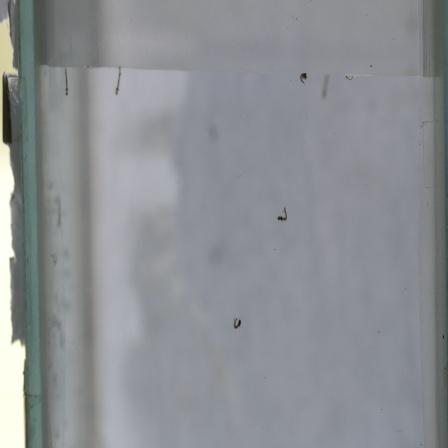Jentik-Nyamuk: (58, 65, 75, 99), (112, 64, 125, 100), (295, 68, 312, 88), (229, 314, 247, 332), (274, 204, 289, 225), (342, 72, 357, 84)
